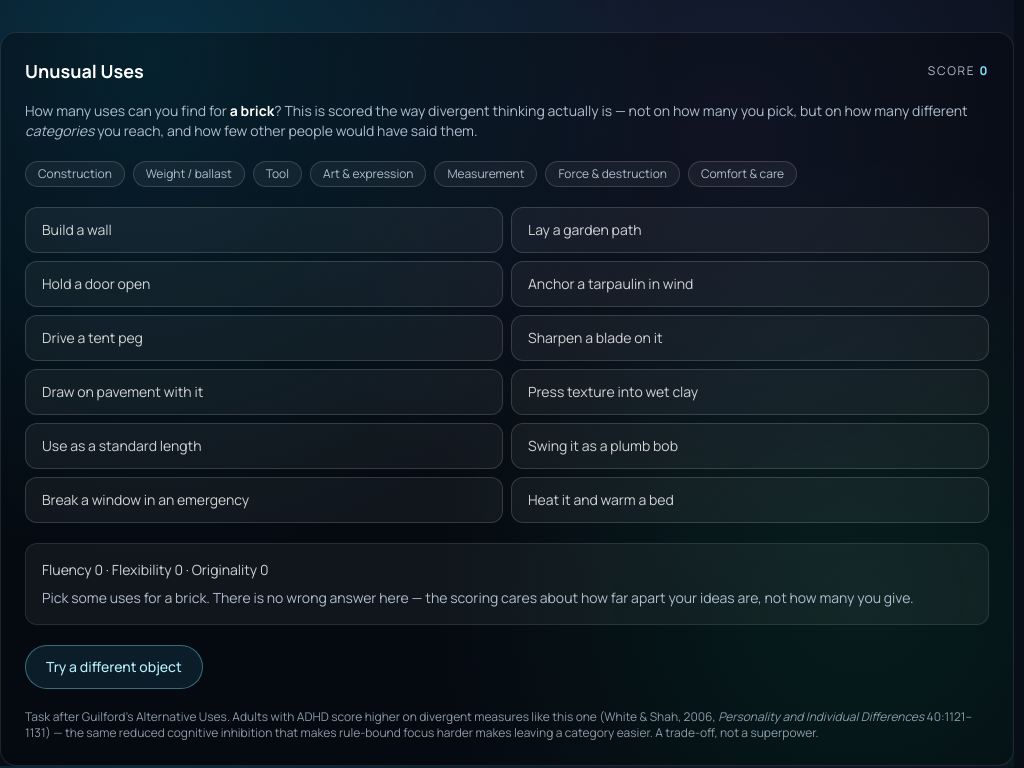
Test: DivergentThinkingGame › selecting a use updates the score breakdown and marks its category reached
Click the button "Build a wall". click: (77,230)
box: [25, 207, 503, 253]
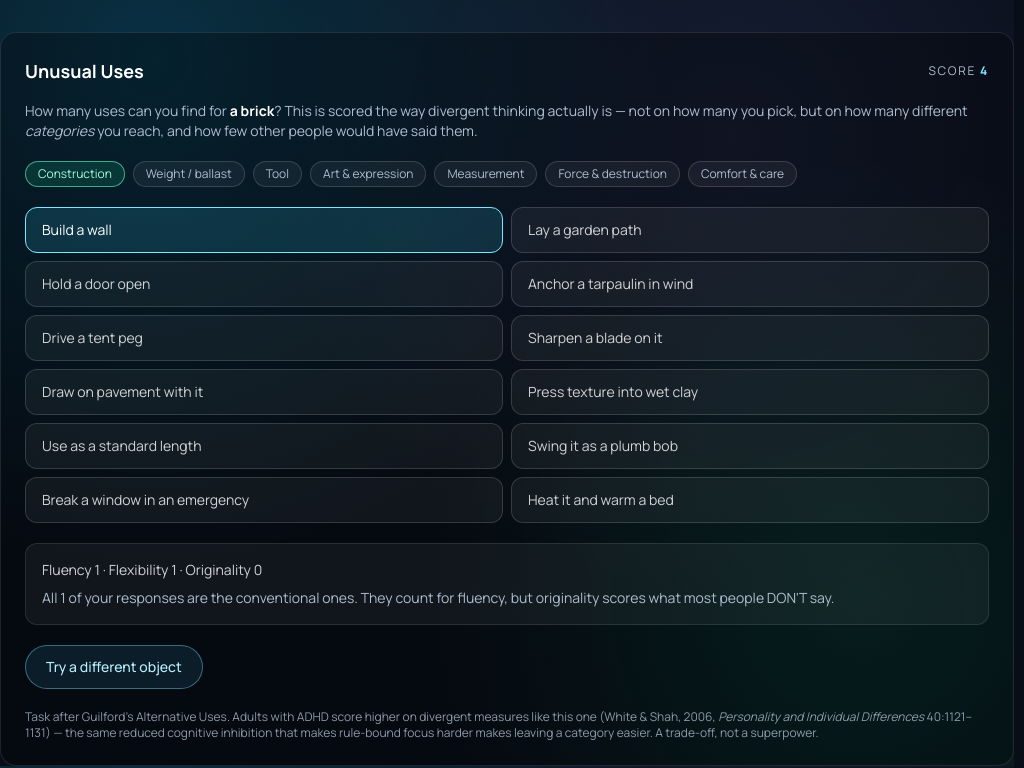
Check: the element with test id "dt-total" no longer shows "0"
Check: the text with test id "dt-breakdown" shows "Fluency 1", box [42, 560, 262, 579]
